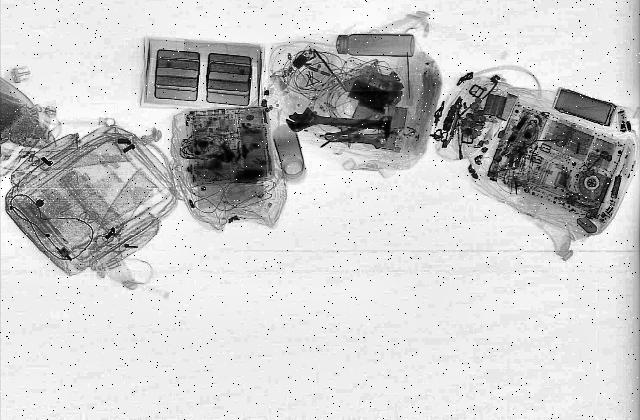Scissors: (536, 134, 568, 148)
Wrench: (286, 107, 390, 139), (326, 132, 388, 150)
